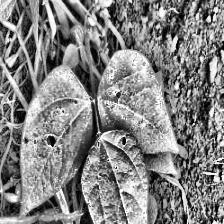ALS: (15, 68, 98, 217), (100, 46, 174, 160), (80, 130, 163, 224)
